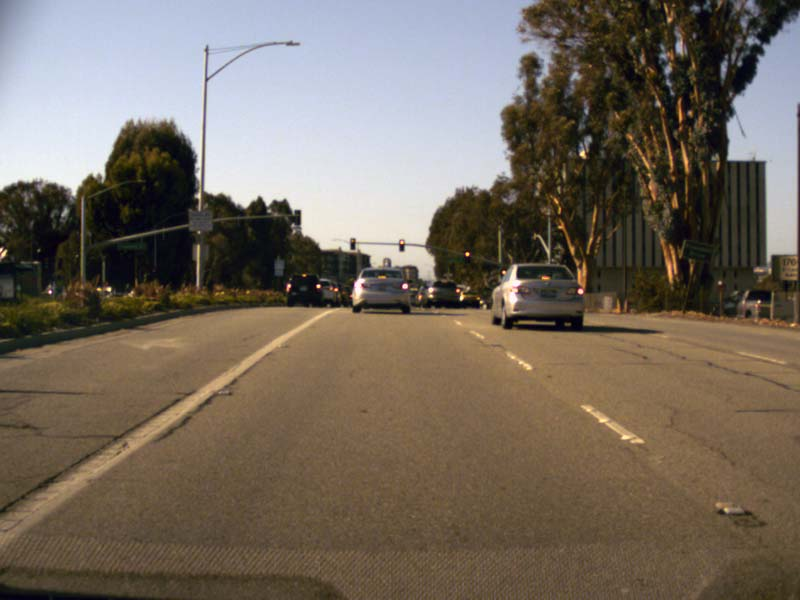Red: (350, 238, 355, 249), (464, 251, 469, 262), (399, 239, 403, 250), (501, 268, 505, 274)
